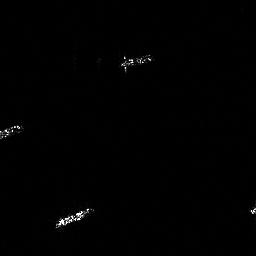ship: (51, 204, 98, 232), (117, 51, 154, 72), (1, 121, 27, 141)
